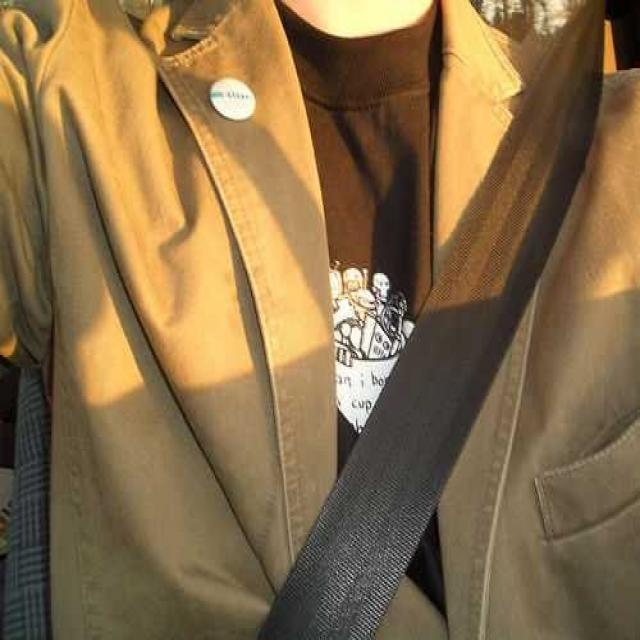seatbelt: (289, 82, 621, 580)
